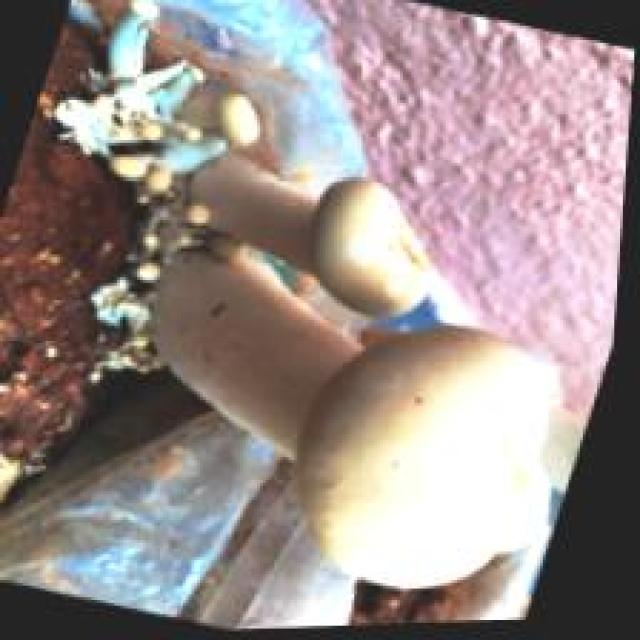death-cap: (291, 320, 560, 589)
